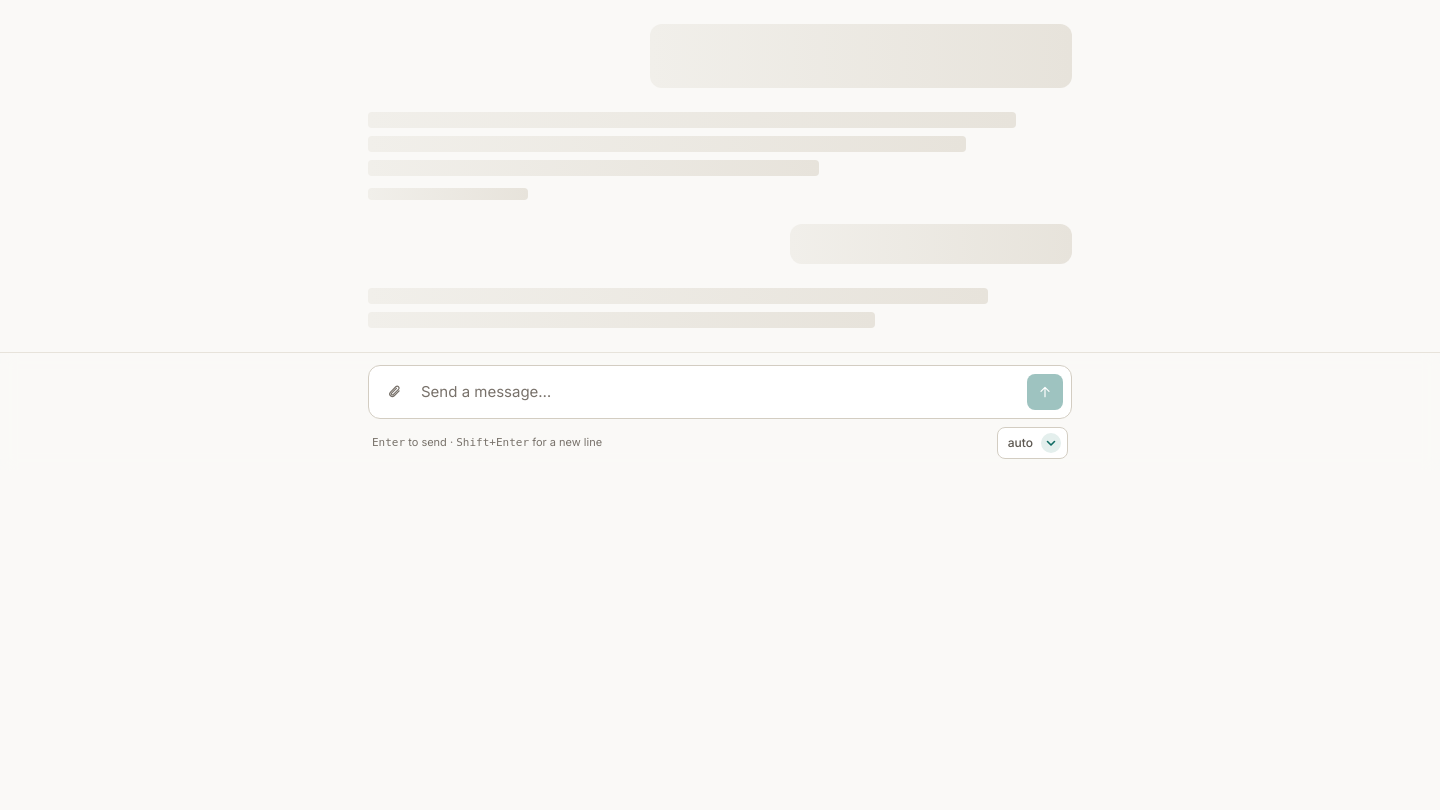
the composer opens on the thread's stored slot › does not stomp a slot the user picked while the fetch was in flight
The width and height of the screenshot is (1440, 810).
Click the dropdown named "Model": coordinates (1032, 443) top-left (997, 427), bottom-right (1068, 459)
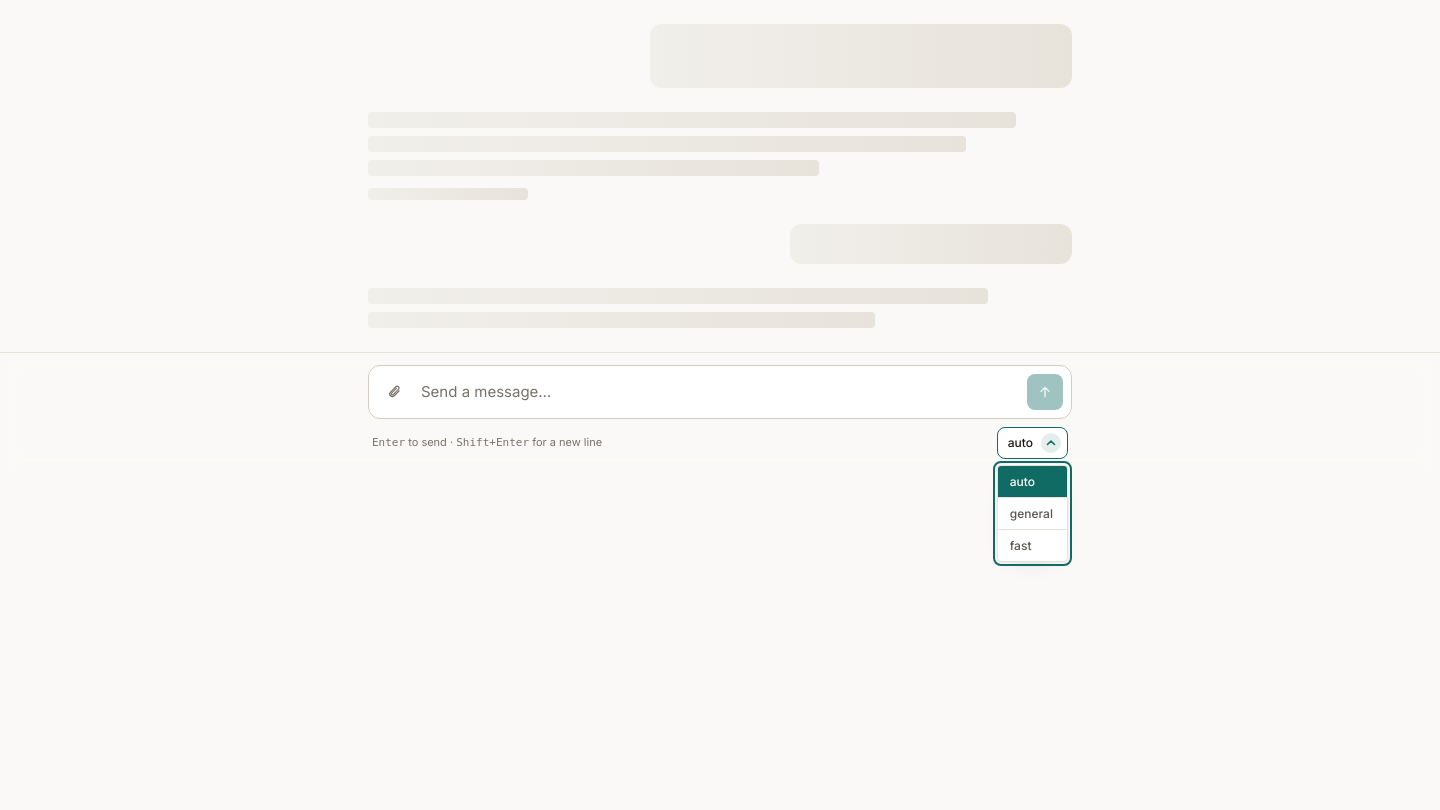
Click the option "general": coordinates (1032, 514) top-left (998, 498), bottom-right (1067, 530)
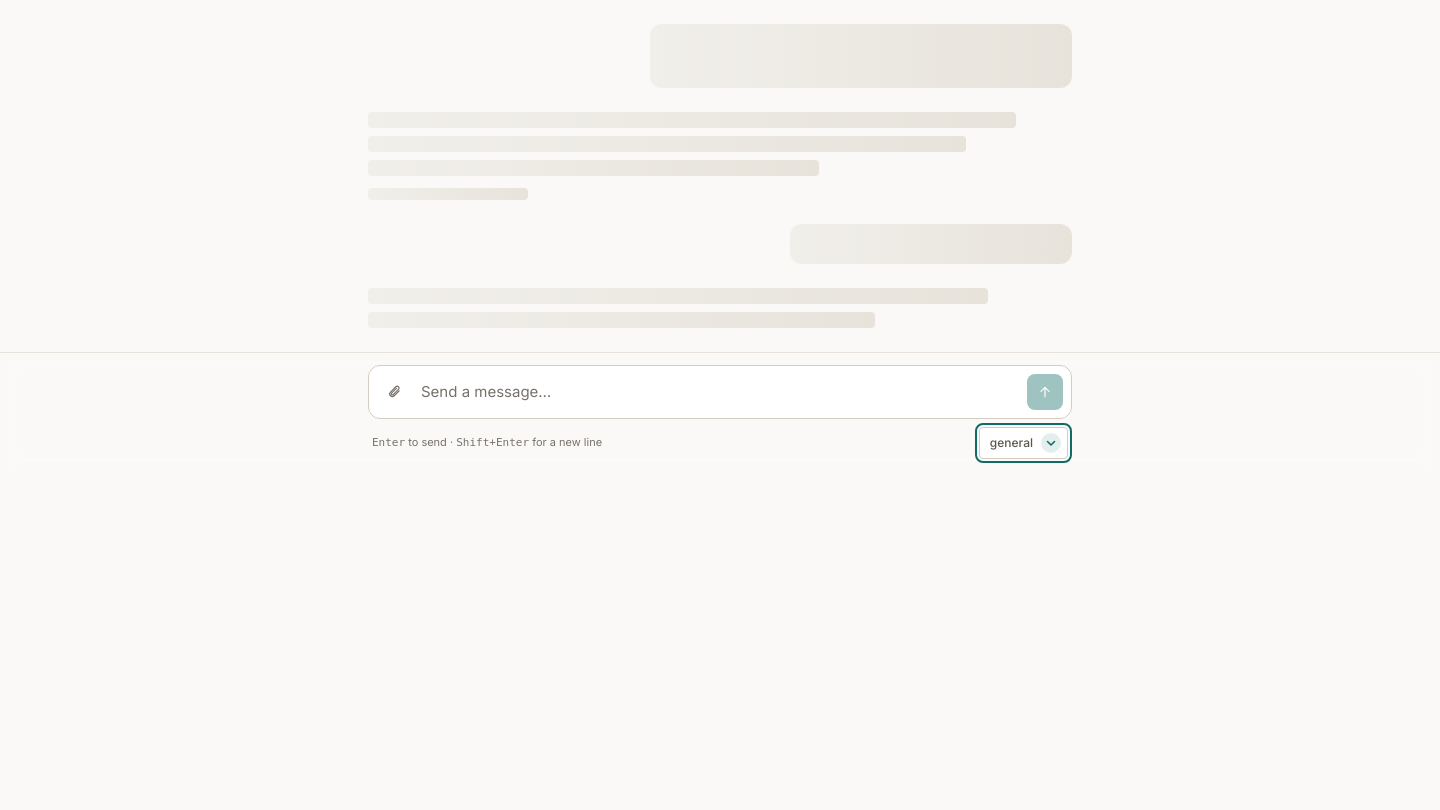
expect the text "general" is shown: met, box top-left (990, 435), bottom-right (1033, 451)
